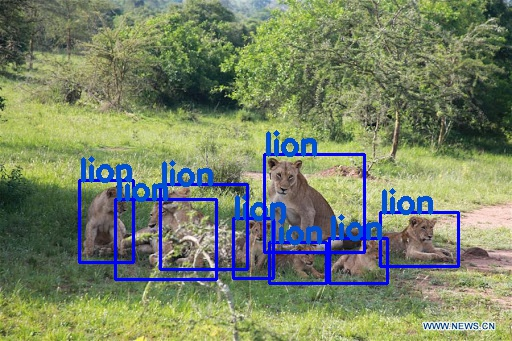lion: (264, 154, 363, 252), (114, 199, 216, 279), (160, 184, 247, 269), (78, 180, 132, 262), (379, 212, 457, 266), (329, 238, 387, 283), (233, 218, 273, 278), (269, 242, 326, 283)
